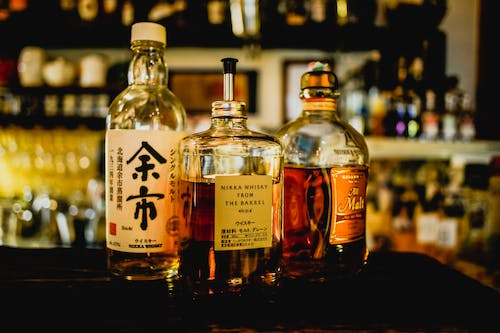alcohol: (103, 21, 188, 282), (176, 100, 284, 297), (272, 70, 370, 283)
